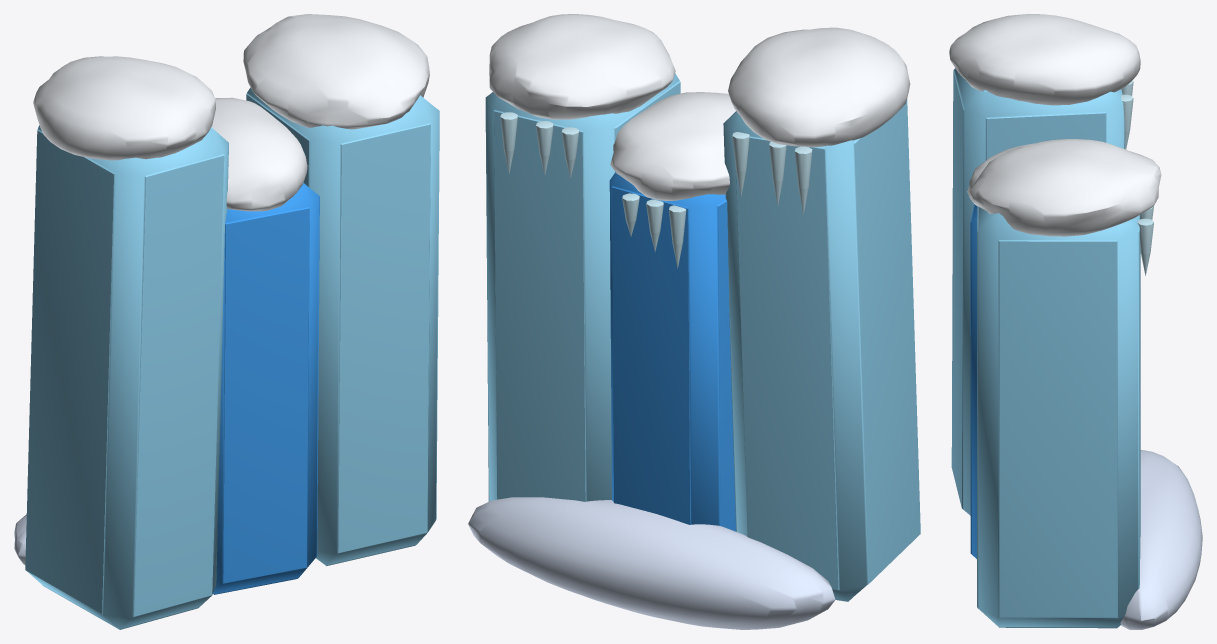
The model's file is IceCliffB.glb.
3 views of the same model, side by side, from view 1: azimuth 30°, elevation 25°; view 2: azimuth 150°, elevation 25°; view 3: azimuth 270°, elevation 25° (orthographic). The views are drawn at different scales.
Parts seen in each view (by area): view 1: IceCliffB; view 2: IceCliffB; view 3: IceCliffB.
Boxes of the visible parts, box(x1,y1,x2,y2) form: IceCliffB: box(14, 14, 439, 629); IceCliffB: box(468, 14, 920, 629); IceCliffB: box(949, 14, 1202, 629).
Bounding box in the file's own units: 29.98 × 41.08 × 18.69.
1 material, 1 textured.
